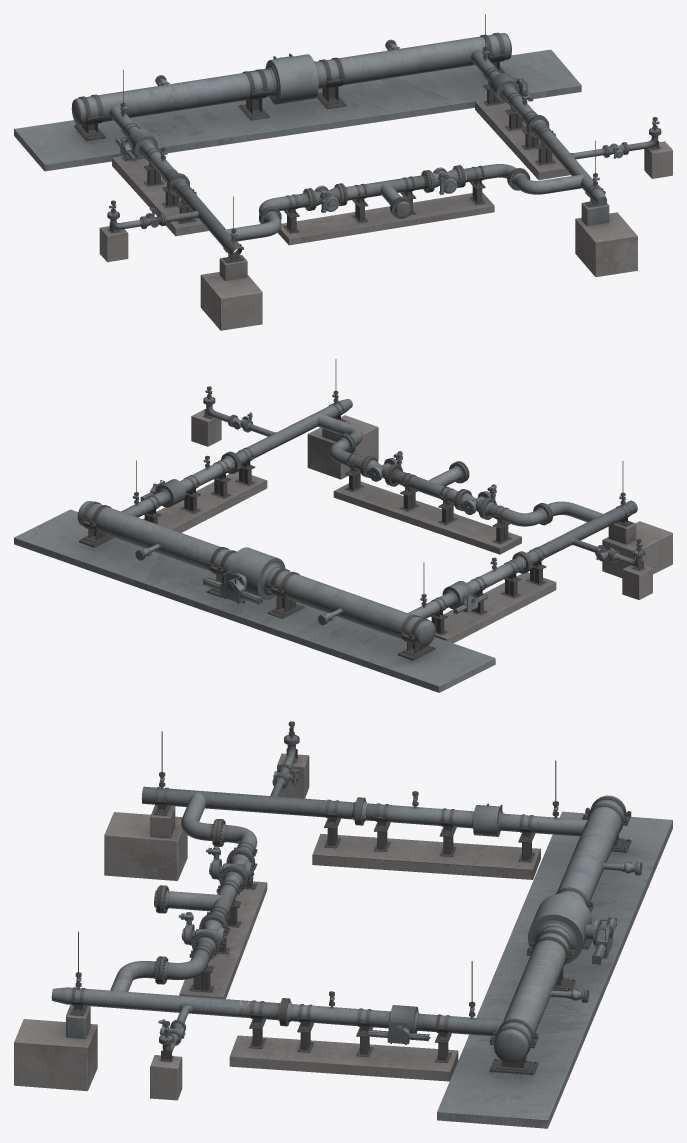
The model's file is Lanark-v3.glb.
3 views of the same model, one above another, from view 1: azimuth 30°, elevation 25°; view 2: azimuth 150°, elevation 25°; view 3: azimuth 270°, elevation 25° (orthographic). The views are drawn at different scales.
Parts seen in each view (by area): view 1: SM_lanark; view 2: SM_lanark; view 3: SM_lanark.
Part boxes in pixels (x1,y1,x2,y2): SM_lanark: (14,14,672,330); SM_lanark: (14,359,672,692); SM_lanark: (14,721,672,1128).
Bounding box in the file's own units: 5.36 × 1.07 × 4.45.
1 material, 1 textured.
